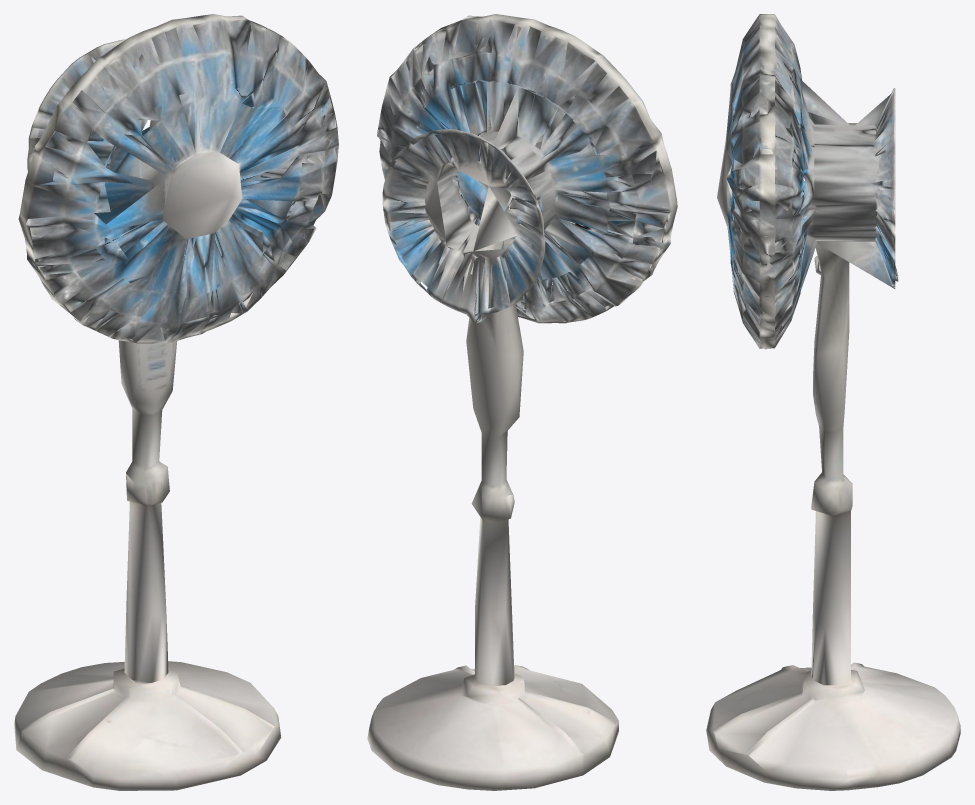
The model's file is fan.glb.
3 renders of one model, left to right at view 1: azimuth 30°, elevation 25°; view 2: azimuth 150°, elevation 25°; view 3: azimuth 270°, elevation 25°, orthographic. The views are drawn at different scales.
Visible parts, largest first — view 1: tripo_node_195e7e18-8f0f-43de-bfda-d070b23ba65a; view 2: tripo_node_195e7e18-8f0f-43de-bfda-d070b23ba65a; view 3: tripo_node_195e7e18-8f0f-43de-bfda-d070b23ba65a.
Boxes of the visible parts, bbox=[...] form: tripo_node_195e7e18-8f0f-43de-bfda-d070b23ba65a: bbox=[14, 14, 338, 790]; tripo_node_195e7e18-8f0f-43de-bfda-d070b23ba65a: bbox=[367, 14, 677, 790]; tripo_node_195e7e18-8f0f-43de-bfda-d070b23ba65a: bbox=[706, 14, 960, 790].
Size of the model in its own units: 0.4339 by 0.9768 by 0.3192.
Materials: 1 (1 with a texture image).
